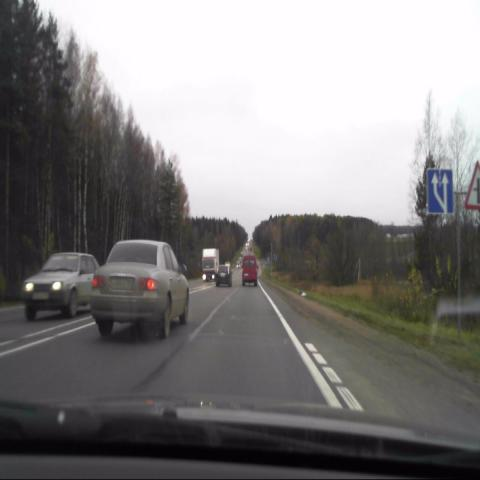5_15_3: (427, 167, 455, 215)
